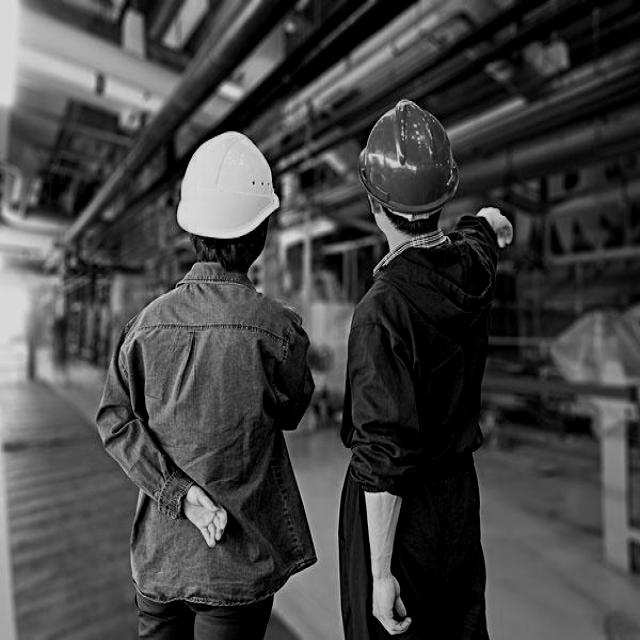hand_noglove: (354, 544, 421, 640), (170, 472, 236, 556)
head_helmet: (353, 108, 458, 210), (179, 138, 283, 240)
person: (97, 130, 314, 640), (312, 105, 483, 637)
